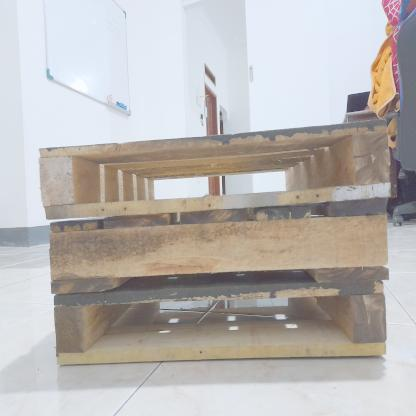Wooden-Pallet: (36, 115, 395, 219), (46, 198, 392, 293), (51, 280, 386, 363)
